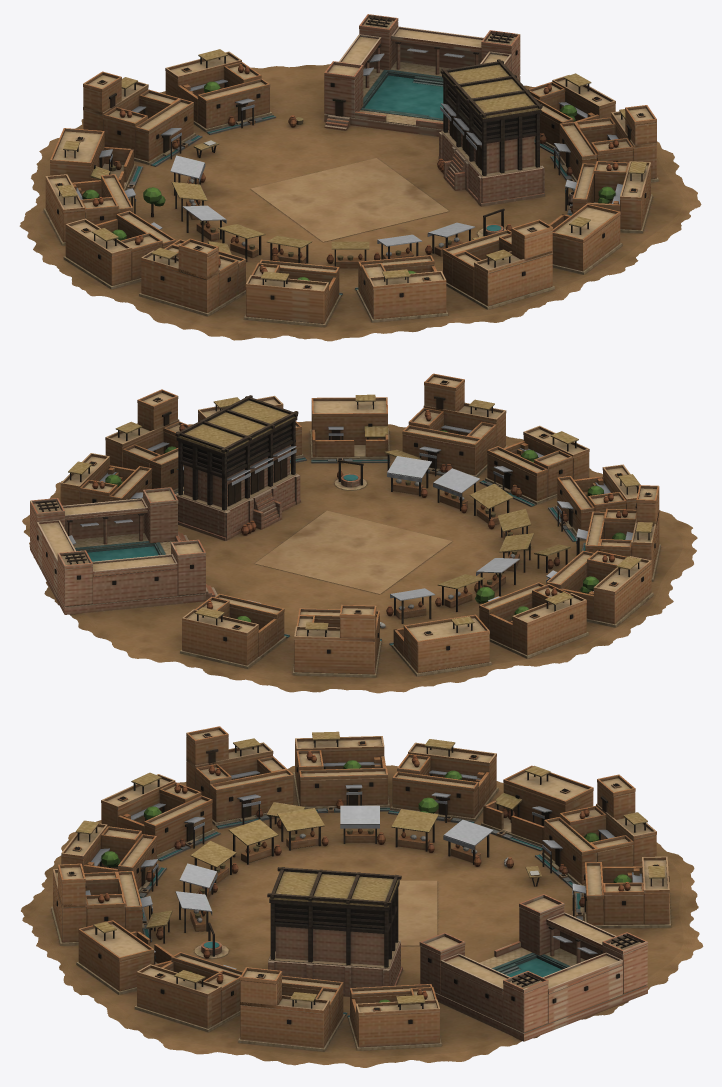
File: bronze-town-medium-a-indic.glb
3 renders of one model, top to bottom at view 1: azimuth 30°, elevation 25°; view 2: azimuth 150°, elevation 25°; view 3: azimuth 270°, elevation 25°, orthographic. The views are drawn at different scales.
Parts seen in each view (by area): view 1: LOD0; view 2: LOD0; view 3: LOD0.
Part boxes in pixels (x1=…): LOD0: x1=19, y1=14, x2=701, y2=341; LOD0: x1=22, y1=373, x2=697, y2=693; LOD0: x1=21, y1=726, x2=703, y2=1067.
Size of what is drawn, in the model's own units: 5.92 by 0.878 by 5.6.
3 materials, 3 textured.
